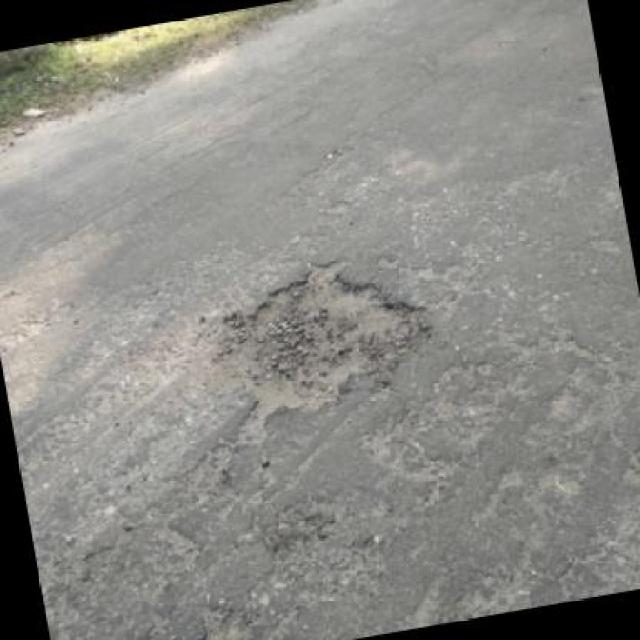pothole: (182, 239, 446, 433), (116, 598, 266, 638)
